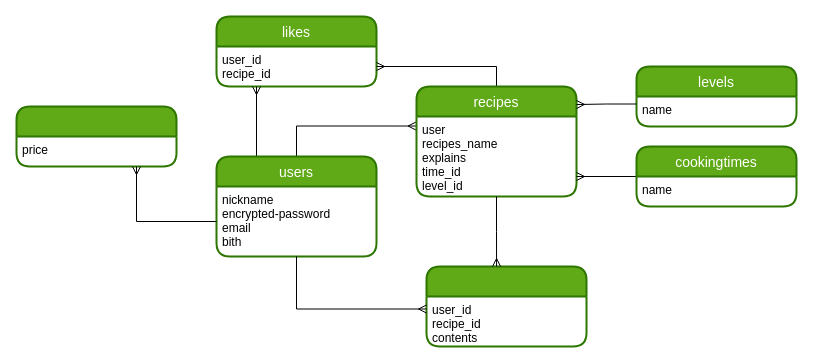
Some shapes in this 813 by 363 pixel diagram are drawn without their labels. The shapes that lost their labels are listed below. From the top down, each one's box as (x1, y1, x2, y2) in pixels, then its label:
(15, 105, 177, 167): donates
(425, 265, 587, 347): comments
